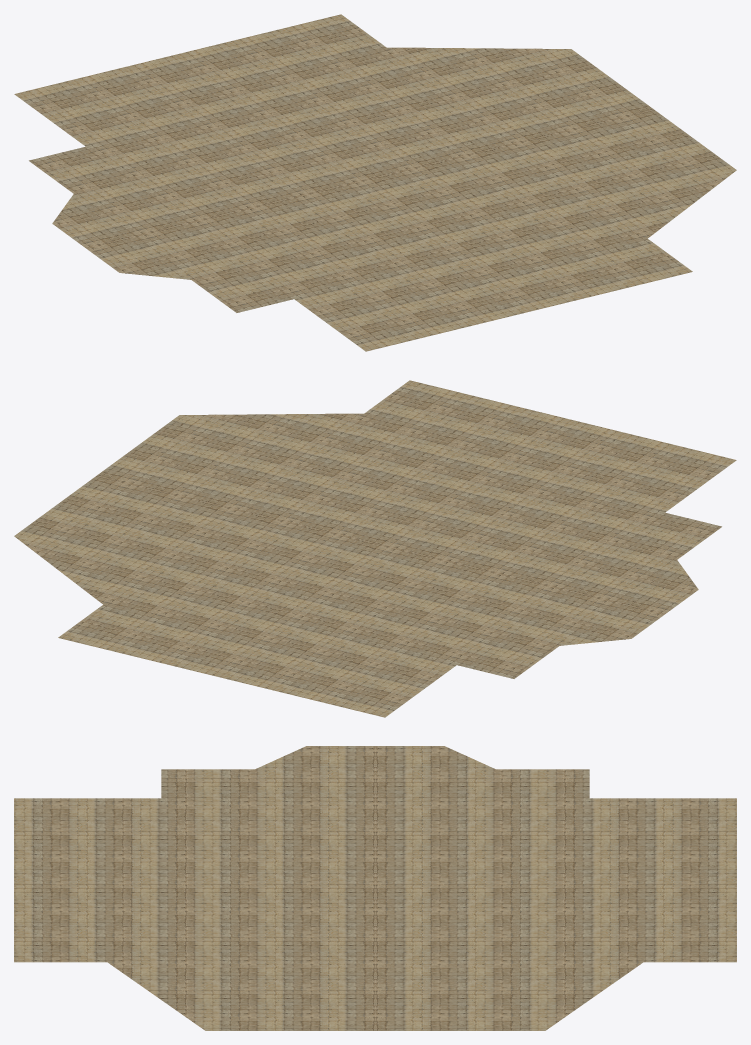
The model's file is map15_room03.FBX.
The picture shows the model from 3 angles, top to bottom: view 1: azimuth 30°, elevation 25°; view 2: azimuth 150°, elevation 25°; view 3: azimuth 270°, elevation 25°; orthographic projection. The views are drawn at different scales.
Parts seen in each view (by area): view 1: Object003; view 2: Object003; view 3: Object003.
Boxes of the visible parts, x1,y1,x2,y2 form: Object003: [14, 14, 736, 351]; Object003: [14, 380, 736, 717]; Object003: [14, 746, 736, 1030].
Size of the model in its own units: 538 by 2.84e-14 by 576.
1 material, 1 textured.
